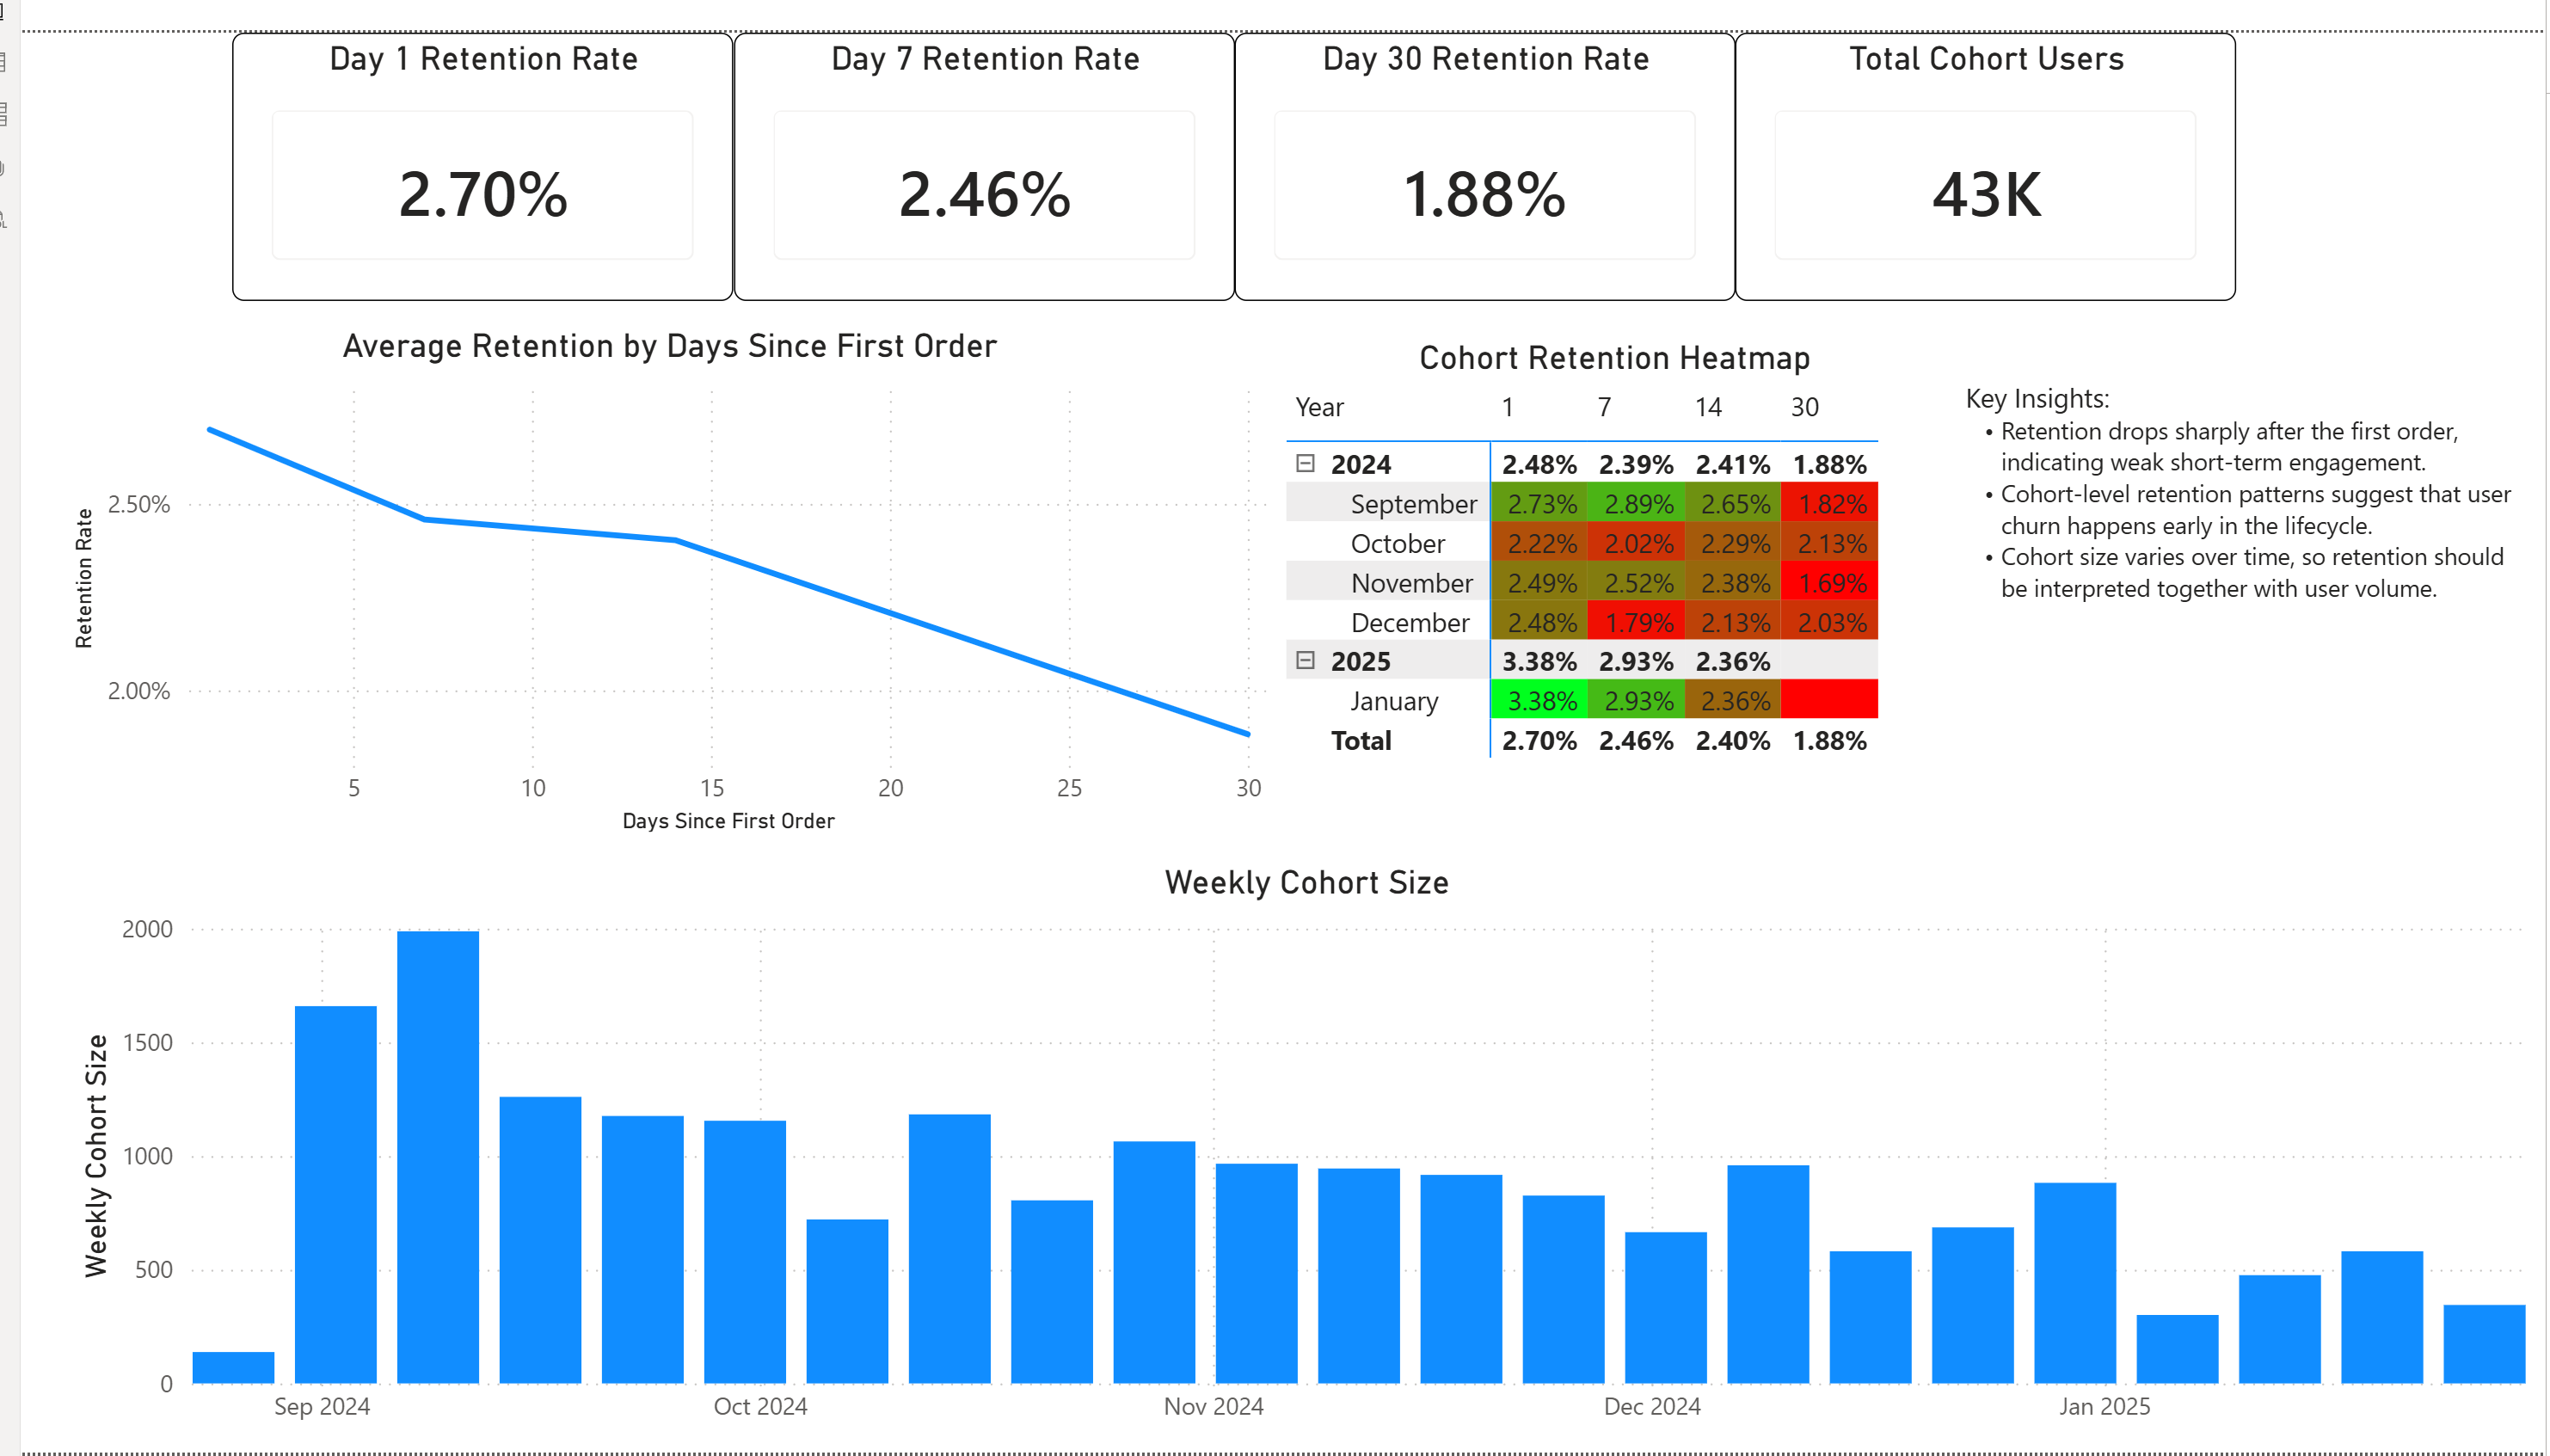

The page's visual inventory and layout, read from the dashboard file:
{"tool":"powerbi","page":{"name":"Retention & User Behavior","canvas":[1280,720],"ordinal":1},"visuals":[{"type":"cardVisual","title":"Day 1 Retention Rate","fields":{"Data":["Retention&UserBehavior.Day 1 Retention"]},"box":[107.3,0,254,135.9],"z":0},{"type":"cardVisual","title":"Day 7 Retention Rate","fields":{"Data":["Retention&UserBehavior.Day 7 Retention"]},"box":[361.4,0,254,135.9],"z":1000},{"type":"cardVisual","title":"Day 30 Retention Rate","fields":{"Data":["Retention&UserBehavior.Day 30 Retention"]},"box":[615.4,0,254,135.9],"z":2000},{"type":"cardVisual","title":"Total Cohort Users","fields":{"Data":["Retention&UserBehavior.Total Cohort Users"]},"box":[869.4,0,254,135.9],"z":3000},{"type":"lineChart","title":"Average Retention by Days Since First Order","fields":{"Category":["Retention&UserBehavior.days_since_first"],"Y":["Retention&UserBehavior.Overall Retention"]},"box":[21.4,148.4,615.1,261.4],"z":4000},{"type":"pivotTable","title":"Cohort Retention Heatmap","fields":{"Columns":["Retention&UserBehavior.days_since_first"],"Values":["Retention&UserBehavior.Average Retention"],"Rows":["Retention&UserBehavior.first_order_date.Variation.Date Hierarchy.Year","Retention&UserBehavior.first_order_date.Variation.Date Hierarchy.Month"]},"box":[636.6,154.3,344.1,247.4],"z":5000},{"type":"clusteredColumnChart","title":"Weekly Cohort Size","fields":{"Y":["Retention&UserBehavior.Weekly Cohort Size"],"Category":["Retention&UserBehavior.cohort_week_start"]},"box":[25.1,420.2,1254.6,293.9],"z":6000},{"type":"textbox","box":[980.7,169.8,299.1,201.6],"z":7000}]}

Visuals, with their boxes in screenshot pixels (x1, y1, x2, y2), scaled from the page's 1280x720 canvas onto the 2550x1456 screenshot:
"Day 1 Retention Rate" cardVisual: box=[214, 0, 720, 275]
"Day 7 Retention Rate" cardVisual: box=[720, 0, 1226, 275]
"Day 30 Retention Rate" cardVisual: box=[1226, 0, 1732, 275]
"Total Cohort Users" cardVisual: box=[1732, 0, 2238, 275]
"Average Retention by Days Since First Order" lineChart: box=[43, 300, 1268, 829]
"Cohort Retention Heatmap" pivotTable: box=[1269, 312, 1954, 813]
"Weekly Cohort Size" clusteredColumnChart: box=[50, 850, 2549, 1444]
textbox: box=[1954, 343, 2549, 751]
